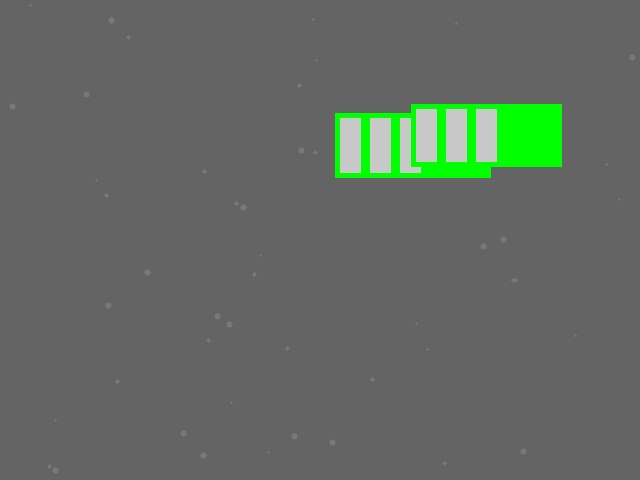bus: (335, 113, 490, 177), (411, 104, 561, 166)
